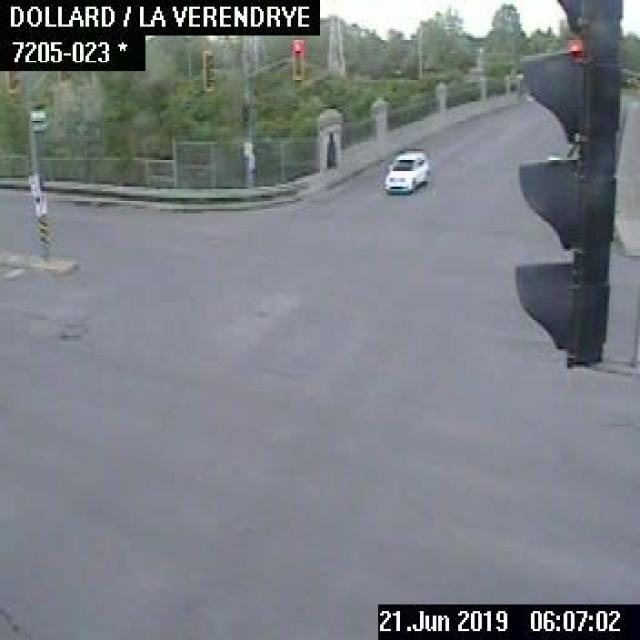vehicle: (382, 147, 430, 194)
